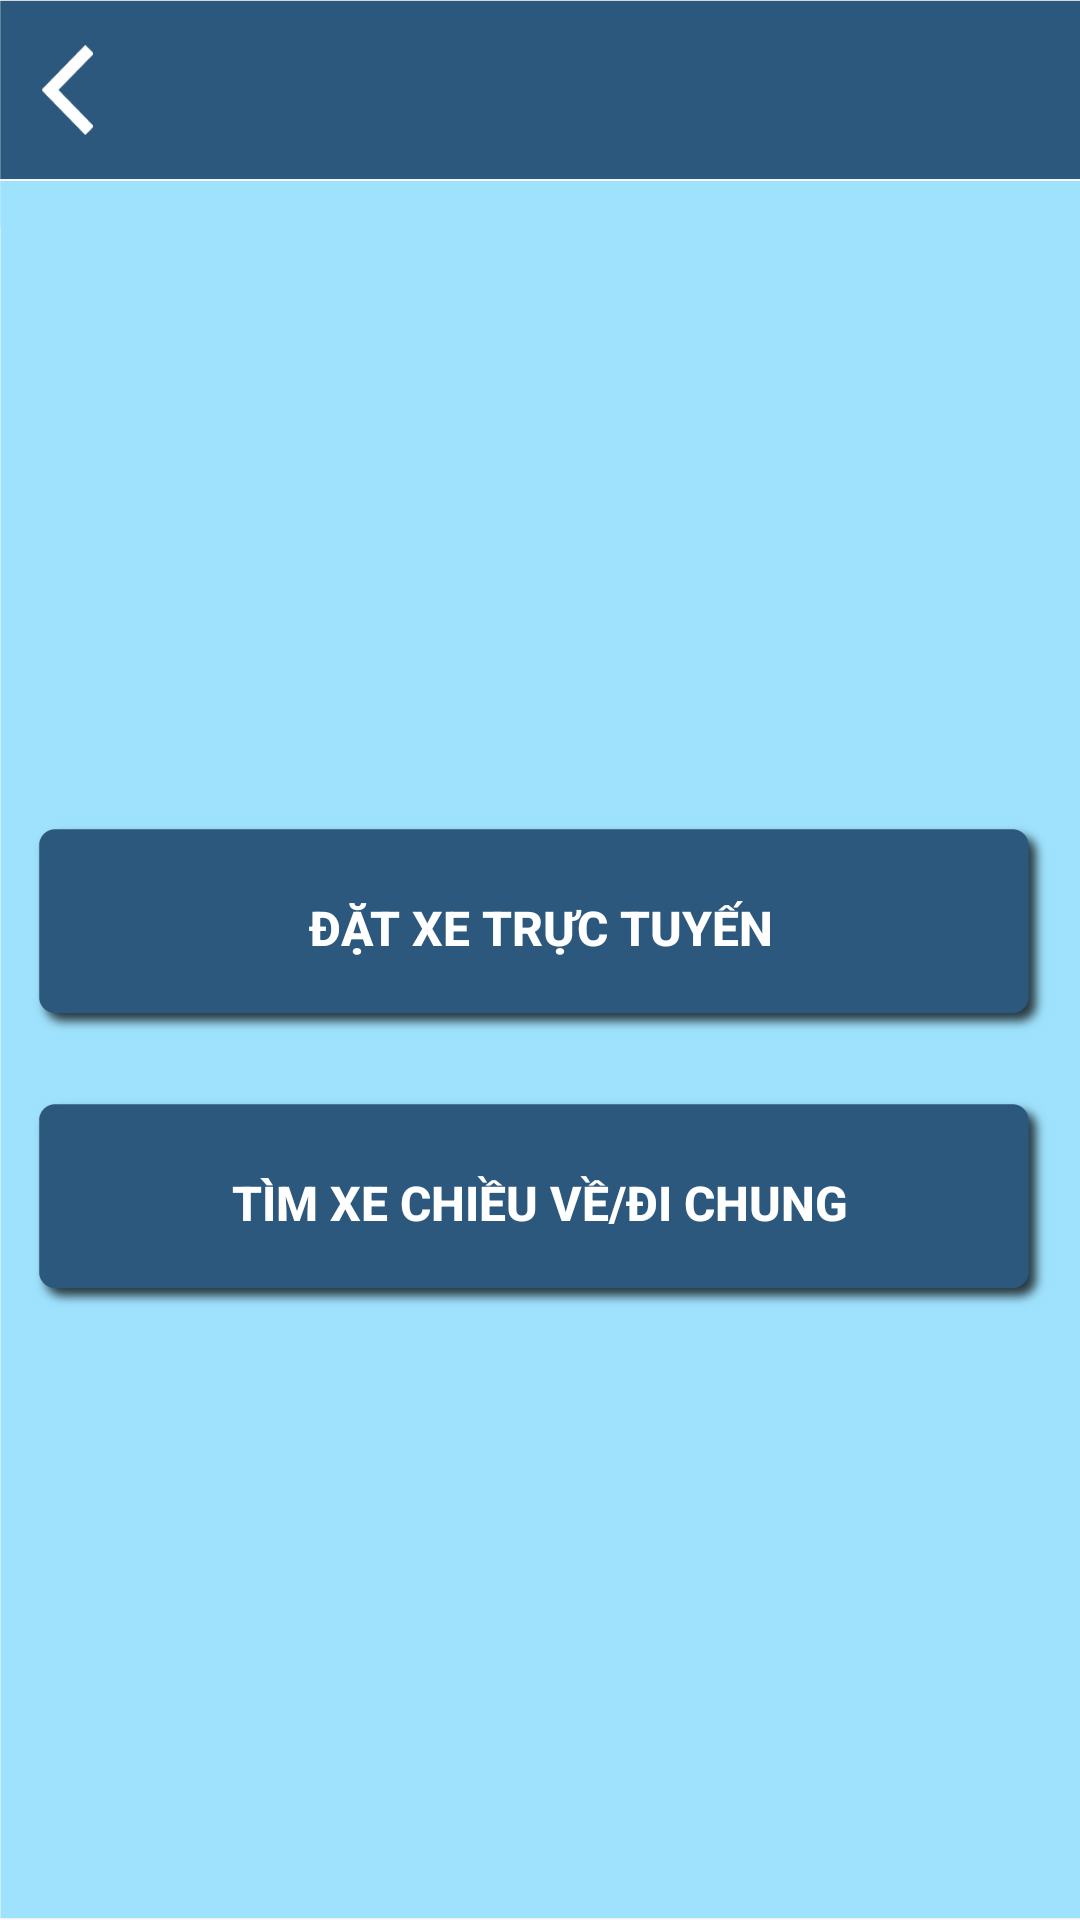

Named icons in this screenshot (1080px x 1920px) and their centers, point (x, y):
back: point (90, 90)
